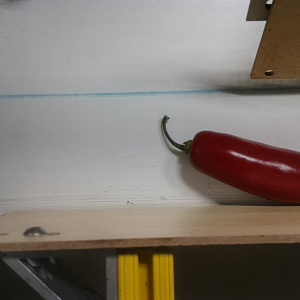Cut Point: (179, 128, 211, 171)
